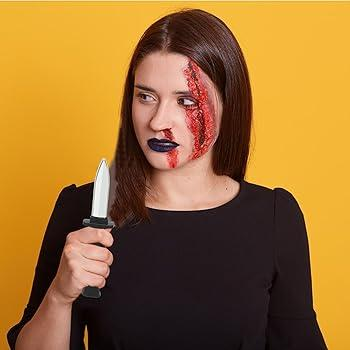Knife: (6, 6, 325, 350), (53, 224, 115, 304), (80, 156, 114, 300)
